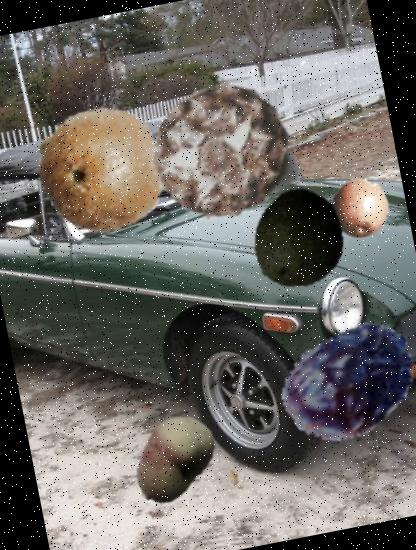Avocado: (240, 181, 356, 298)
Dates: (268, 299, 416, 463)
Granadilla: (322, 166, 400, 245)
Kiwi: (26, 93, 178, 246)
Peach: (117, 403, 230, 516)
Pineapple: (137, 67, 304, 234)
